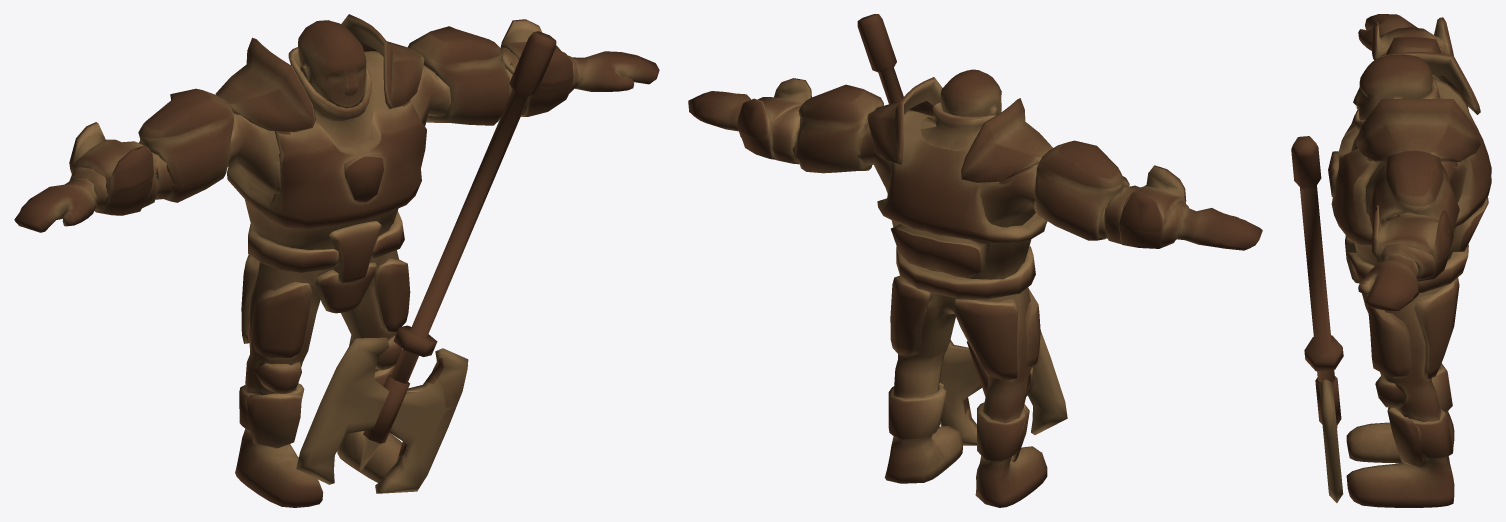
File: raban_statue_04.fbx
3 renders of one model, left to right at view 1: azimuth 30°, elevation 25°; view 2: azimuth 150°, elevation 25°; view 3: azimuth 270°, elevation 25°, orthographic. The views are drawn at different scales.
Parts seen in each view (by area): view 1: Raban, axe; view 2: Raban, axe; view 3: Raban, axe.
Part boxes in pixels (x1=…): Raban: x1=14, y1=14, x2=659, y2=507; axe: x1=296, y1=31, x2=556, y2=493; Raban: x1=688, y1=69, x2=1262, y2=507; axe: x1=857, y1=14, x2=1067, y2=445; Raban: x1=1328, y1=14, x2=1491, y2=507; axe: x1=1291, y1=136, x2=1343, y2=502.
Size of the model in its own units: 4659 by 3159 by 1359.
